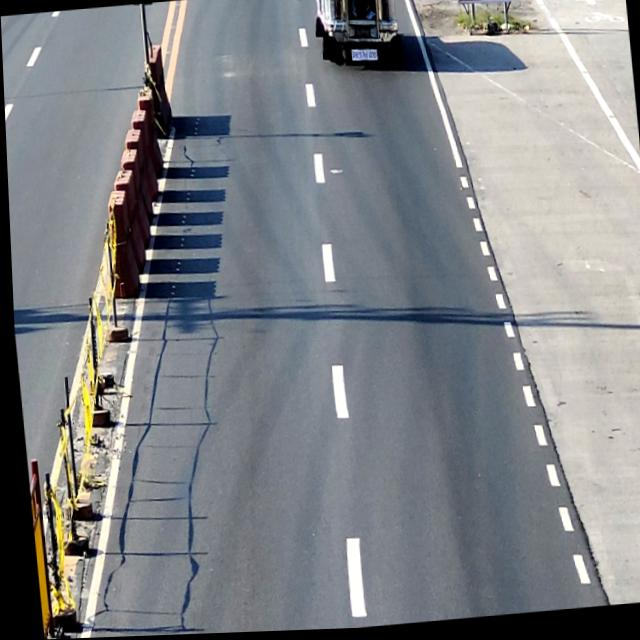Jeep: (312, 0, 401, 77)
License-Plate: (353, 27, 371, 41)
